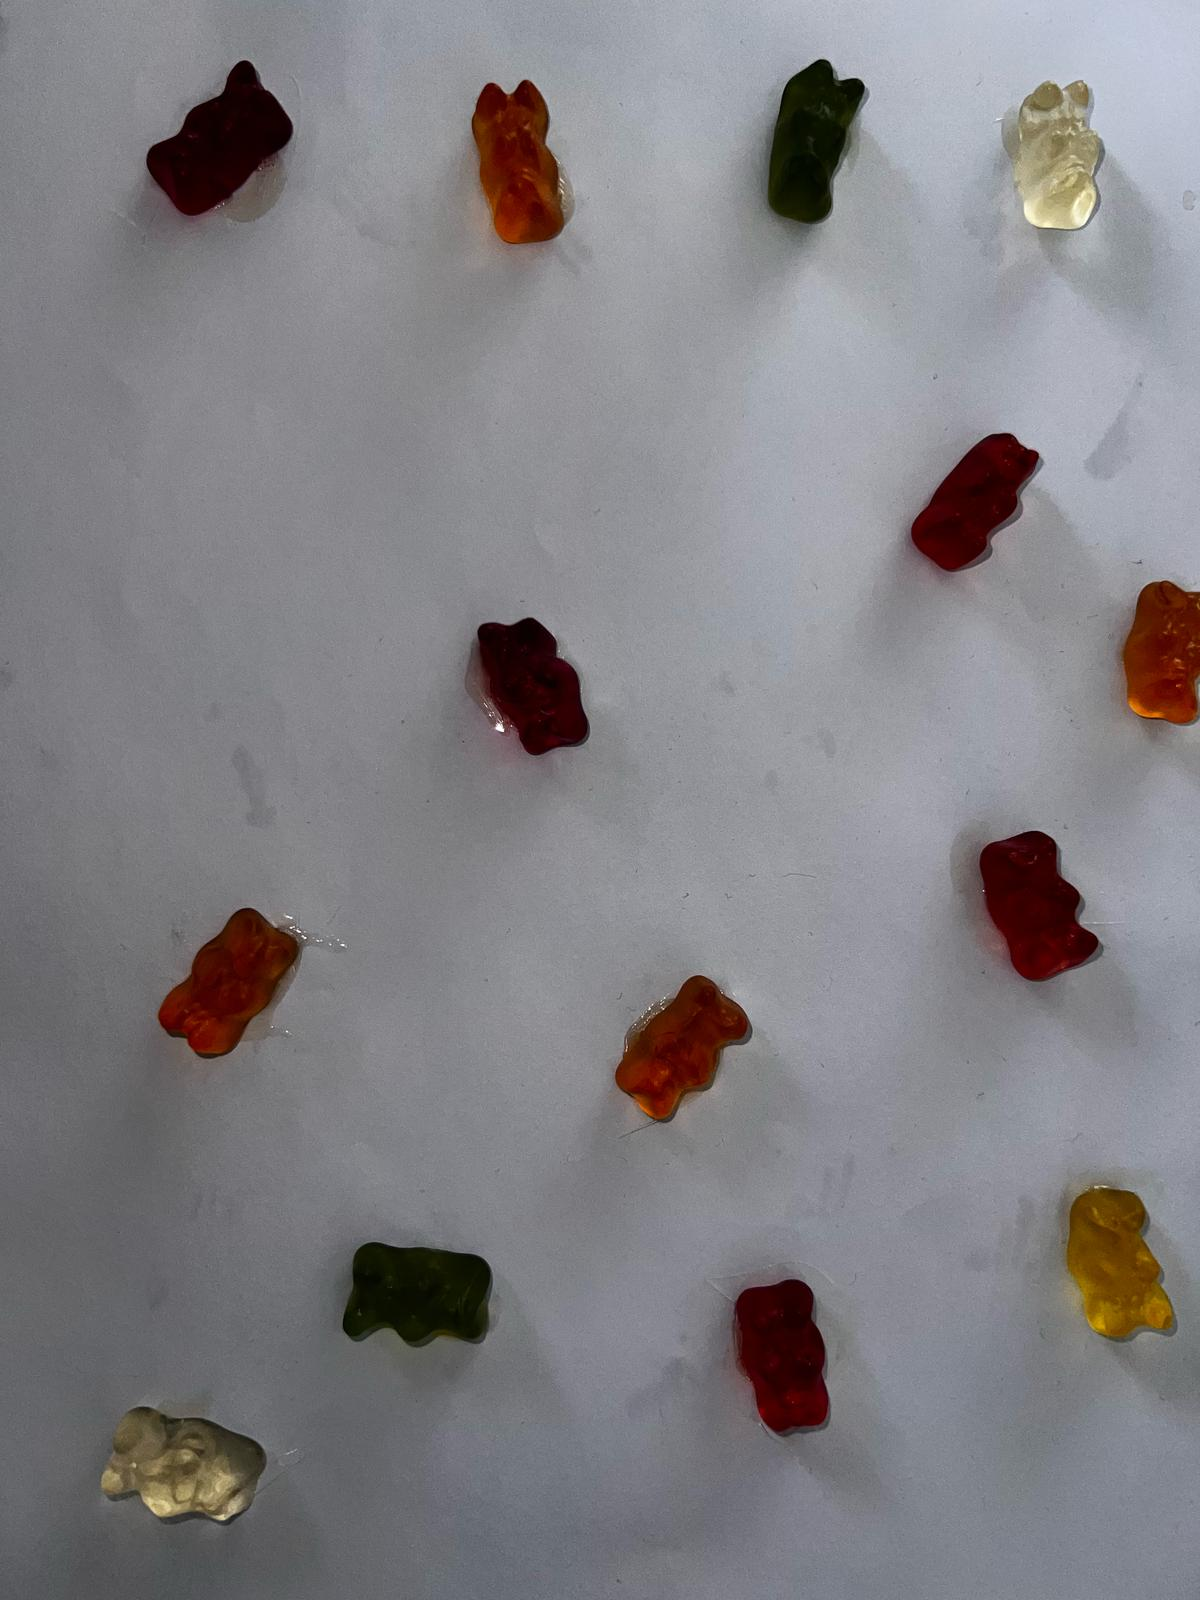gummybear: (130, 48, 297, 231), (603, 968, 768, 1139), (150, 903, 308, 1070), (84, 1401, 274, 1540), (967, 826, 1108, 990), (1053, 1180, 1184, 1354), (908, 425, 1047, 581), (329, 1238, 507, 1353), (469, 615, 608, 760), (765, 57, 874, 239), (729, 1272, 848, 1437), (466, 73, 576, 251), (1008, 64, 1116, 244), (1112, 566, 1199, 734)
